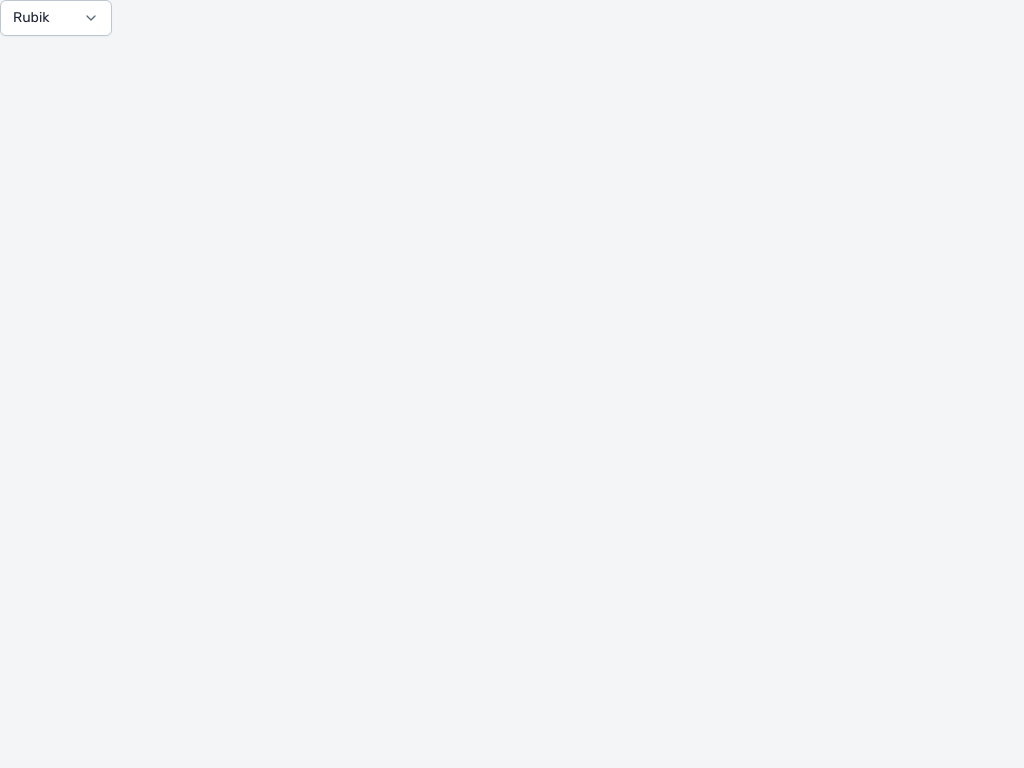
Test: FontPicker › opens on the current font, also after a dismissed search
Click the button with aria-label "Select font": [56, 18] box left=0, top=0, right=112, bottom=36
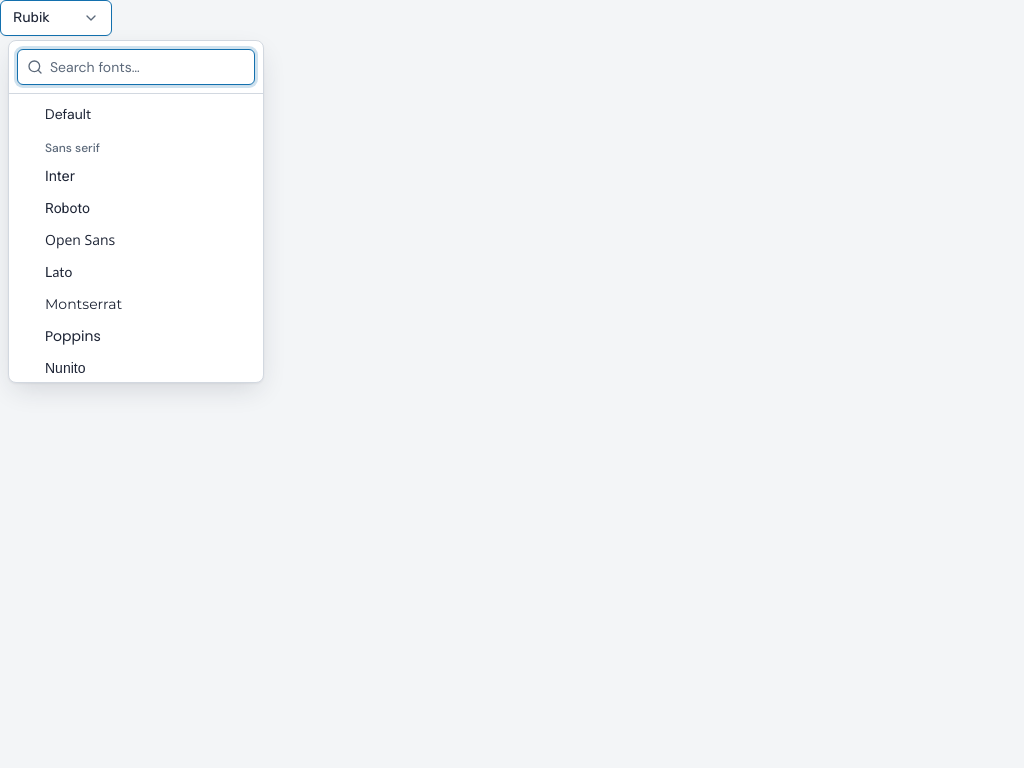
Expected: the text "Rubik" is shown, left=13, top=8, right=50, bottom=28
In the dropdown: [136, 67] box left=17, top=49, right=255, bottom=85, type "Rub"
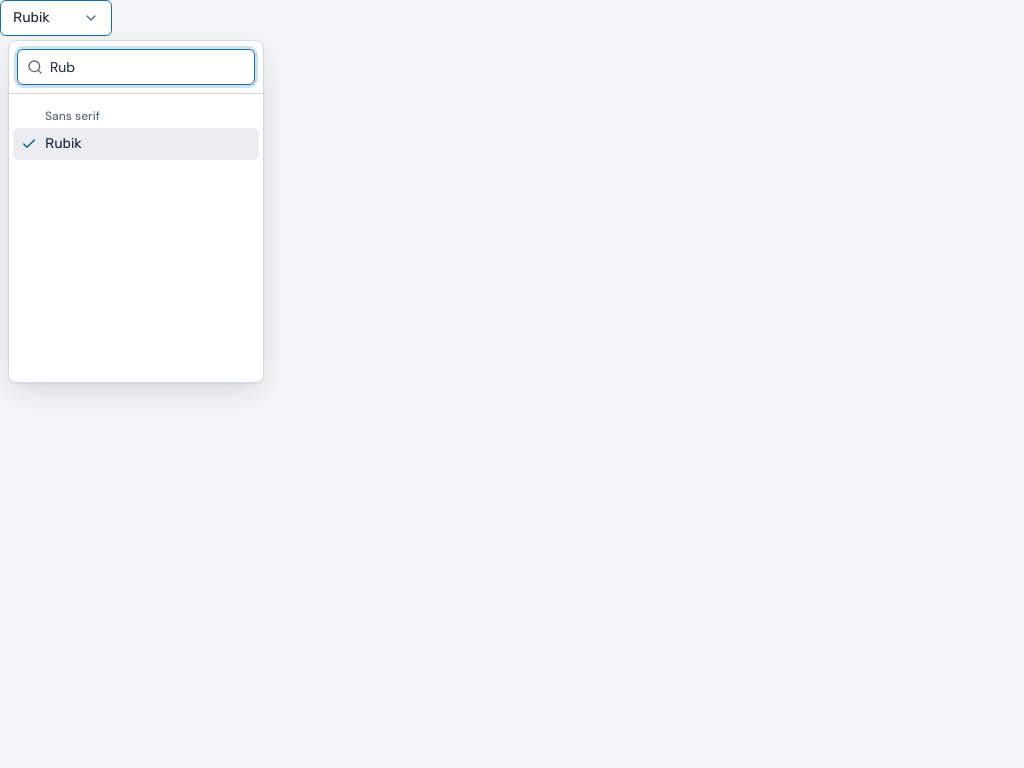
Press Escape
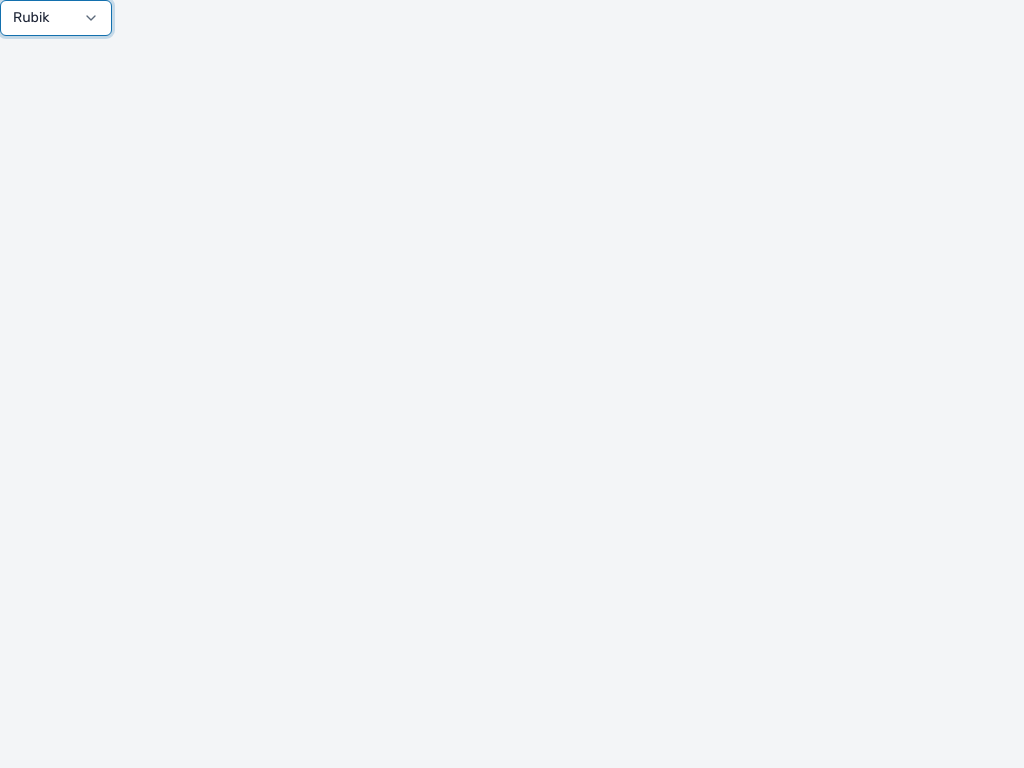
Click the button with aria-label "Select font": [56, 18] box left=0, top=0, right=112, bottom=36
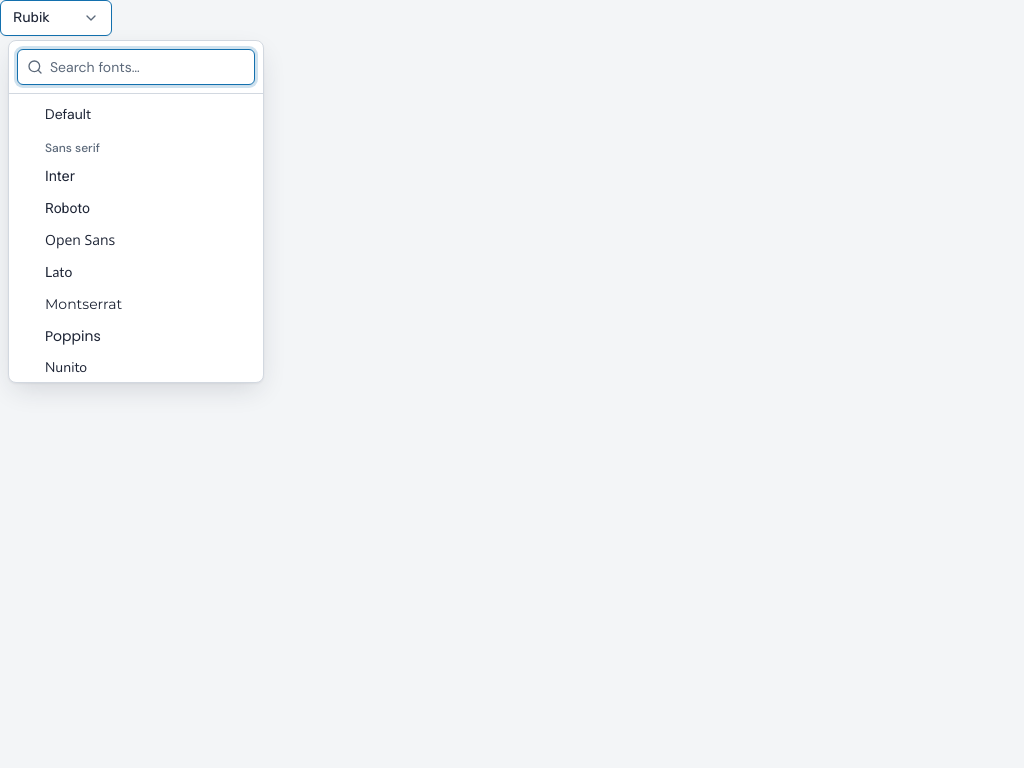
Expected: the text "Rubik" is shown, left=13, top=8, right=50, bottom=28
Expected: the dropdown is empty, left=17, top=49, right=255, bottom=85
